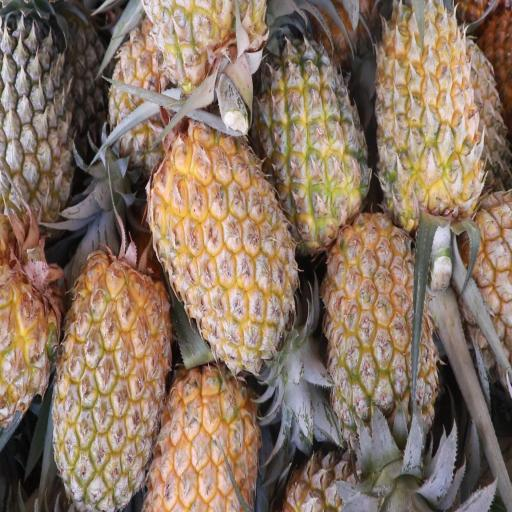------------------------------: (251, 16, 372, 266), (136, 2, 270, 154)
Pineapple - v8 v1: (145, 116, 299, 386), (316, 206, 436, 512), (50, 246, 176, 512), (372, 0, 484, 262), (139, 354, 268, 512), (0, 205, 71, 456), (447, 185, 512, 405)
